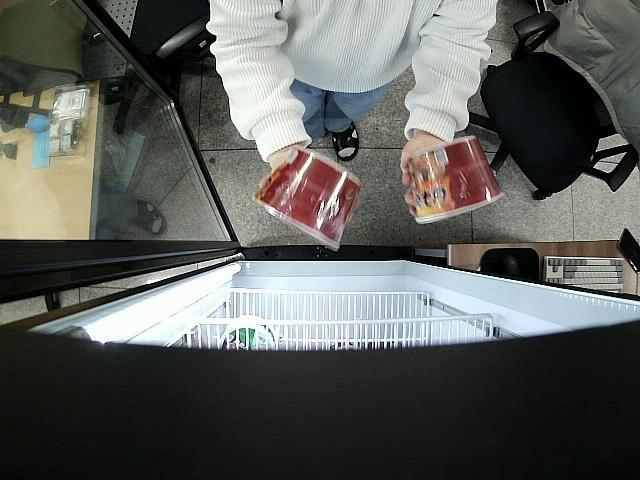05_nuguri_L: (254, 146, 358, 252), (406, 134, 505, 224)
